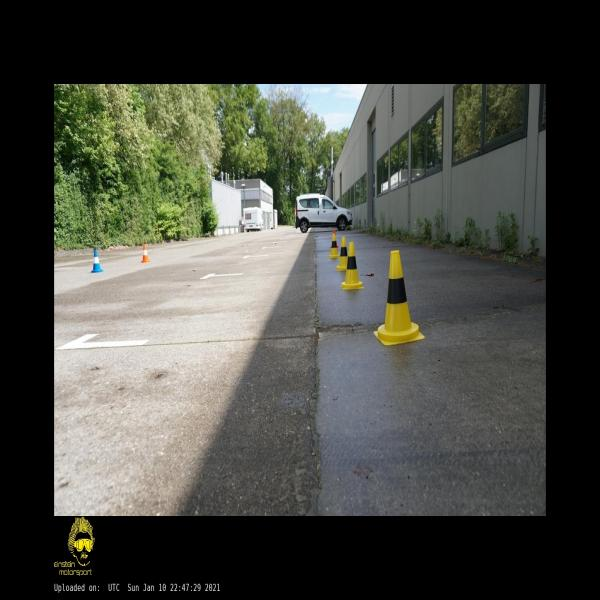blue_cone: (91, 250, 103, 272)
orange_cone: (141, 245, 150, 262), (330, 230, 338, 248)
yellow_cone: (374, 250, 425, 346), (341, 242, 364, 289), (336, 237, 347, 271), (328, 233, 340, 258)
